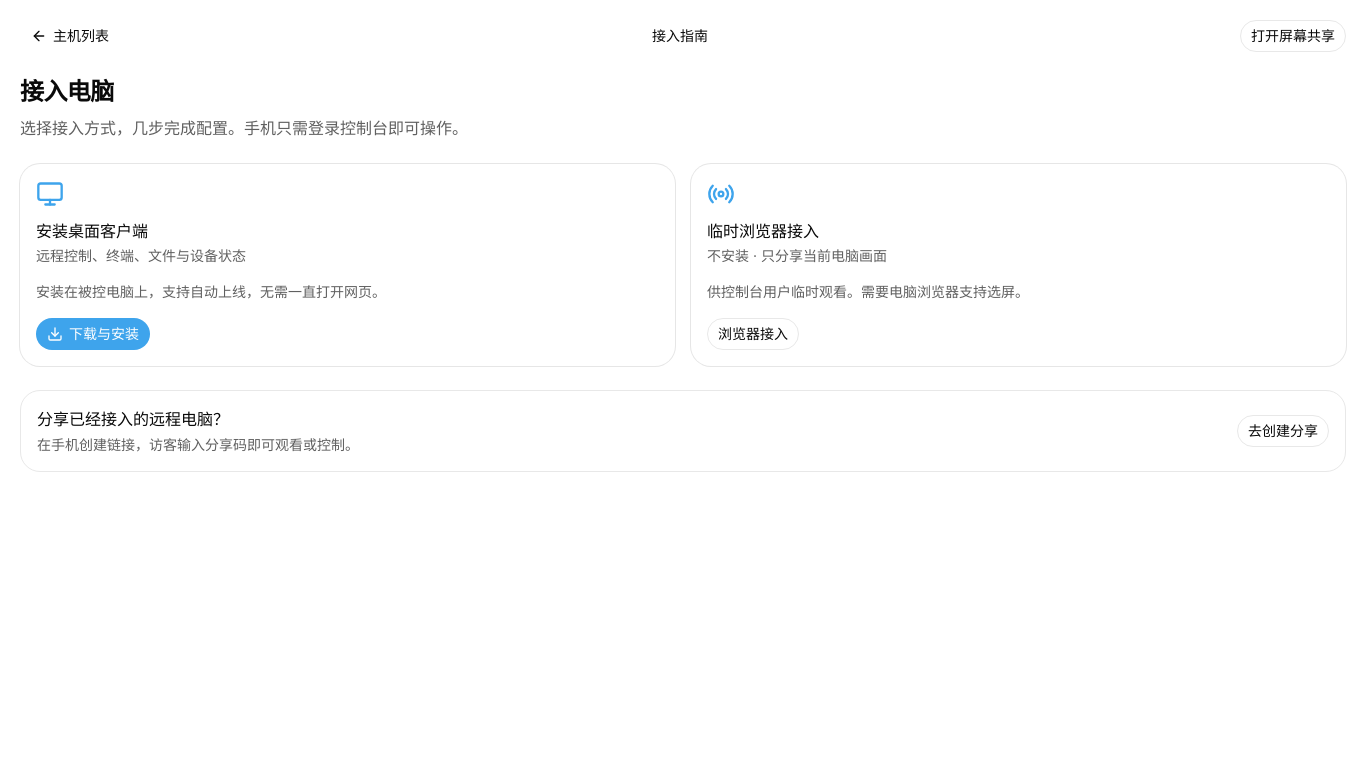
stopping while the browser picker is pending releases the subsequently selected screen
The image size is (1366, 768).
Click the button "浏览器接入" at (753, 334), box [707,318,799,350]
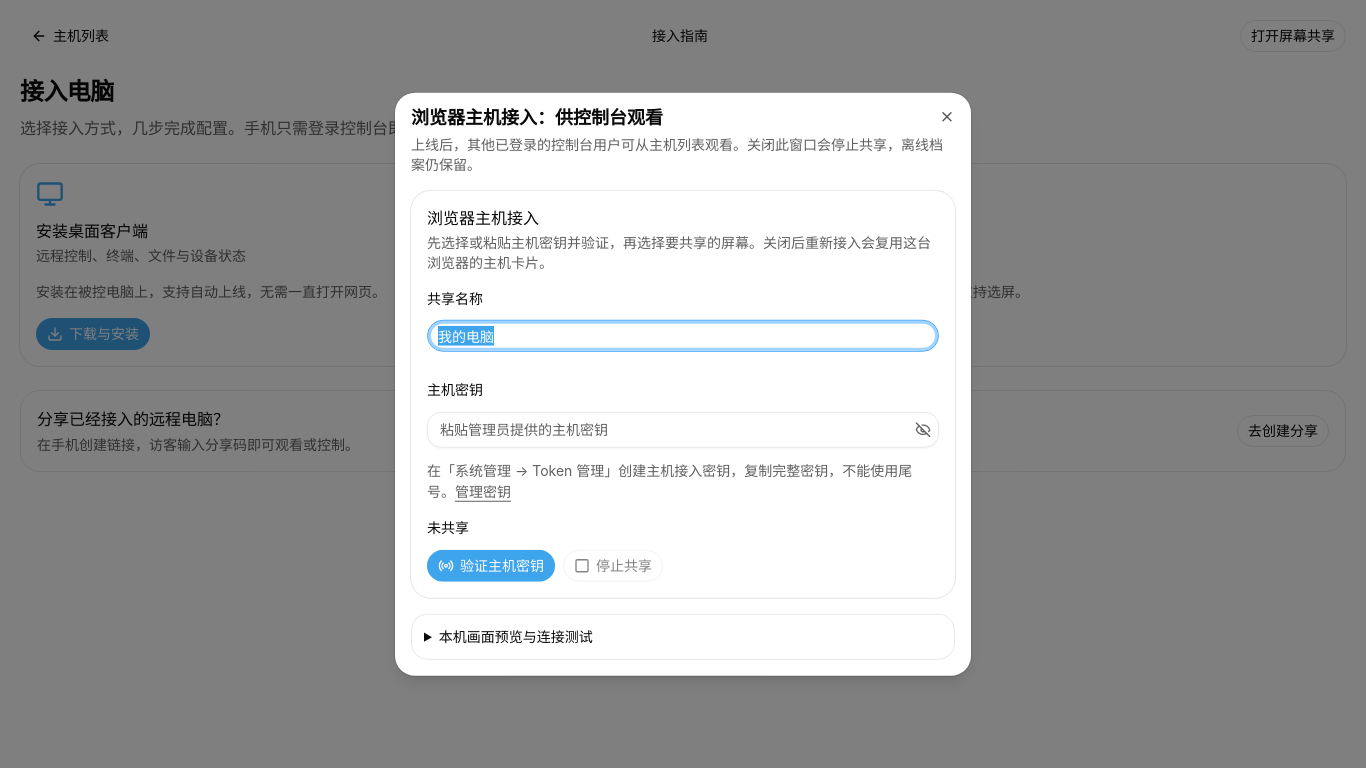
Type "test-host-token" into the password field labelled "主机密钥" at (683, 429), box [427,411,939,447]
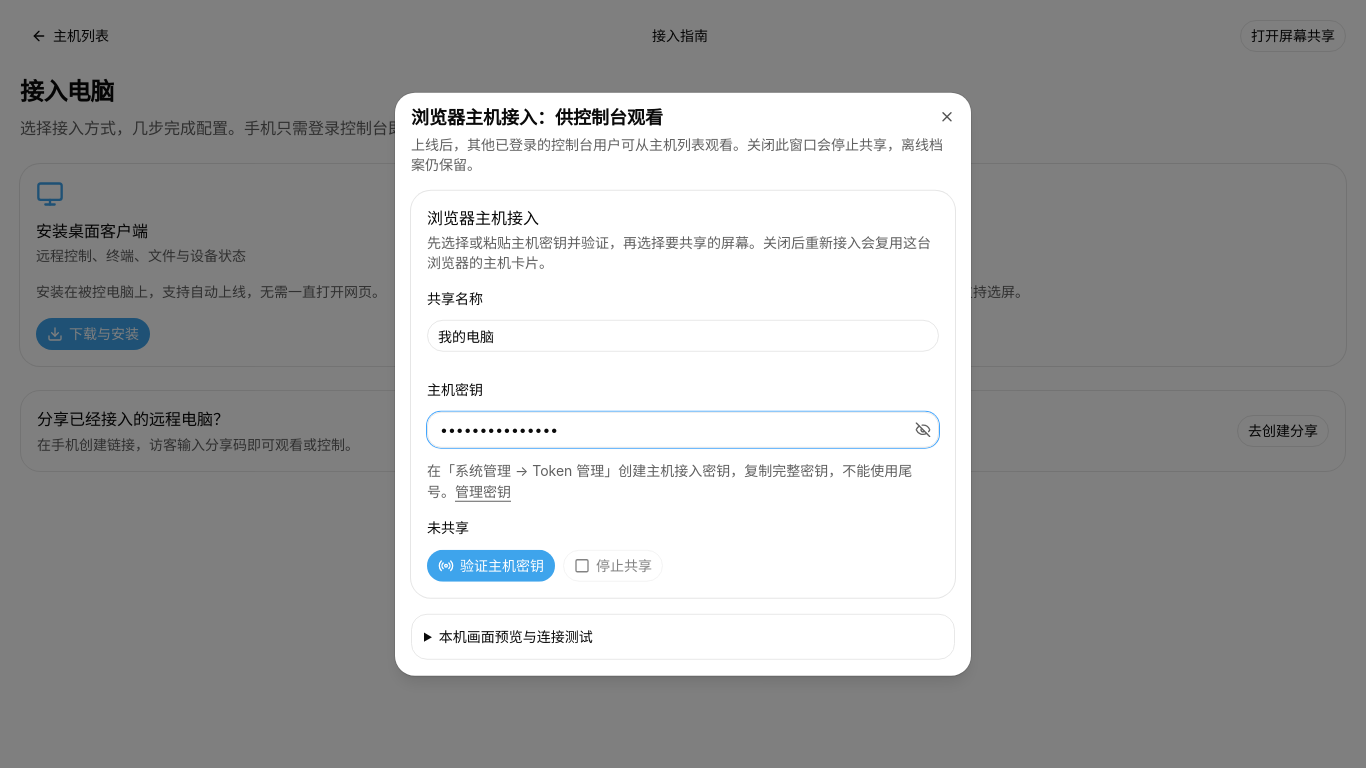
Click the button "验证主机密钥" at (491, 565), box [427,549,555,581]
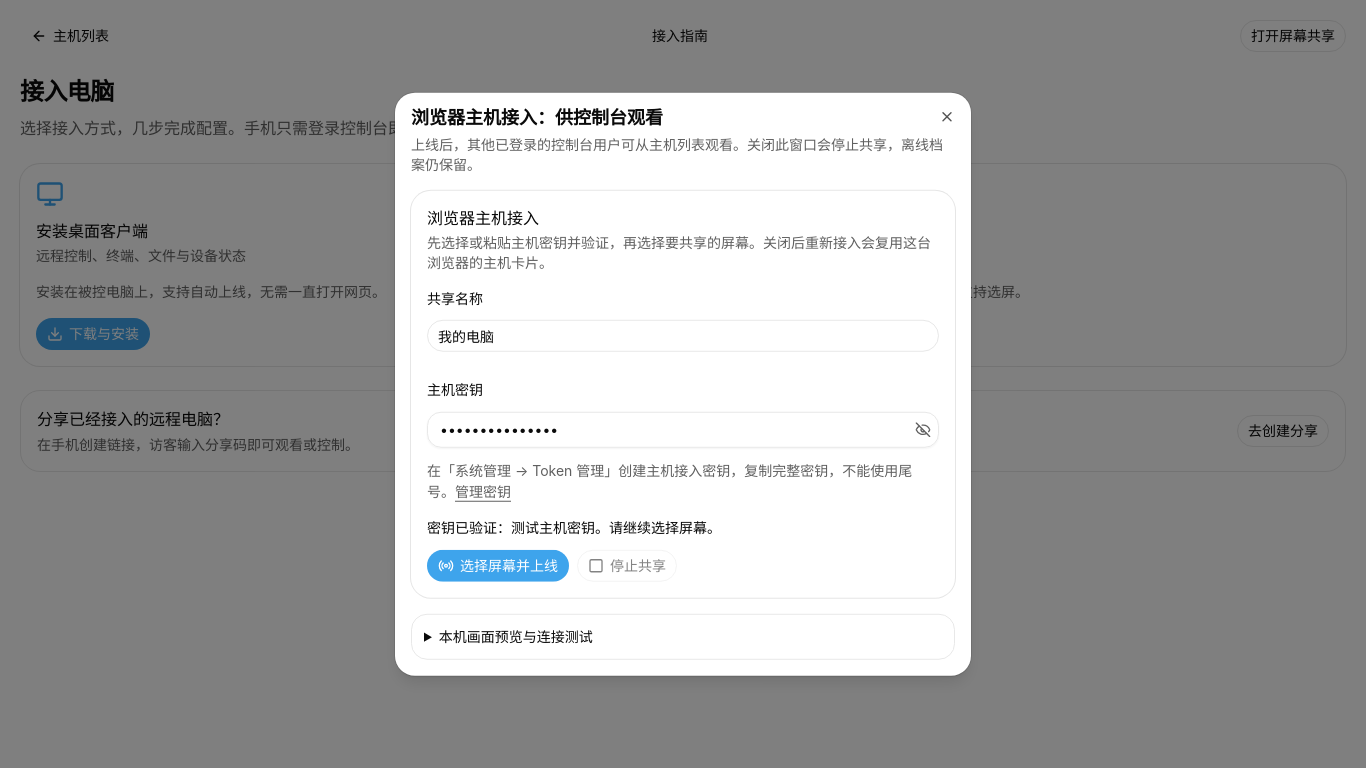
Click the button "选择屏幕并上线" at (498, 565), box [427,549,569,581]
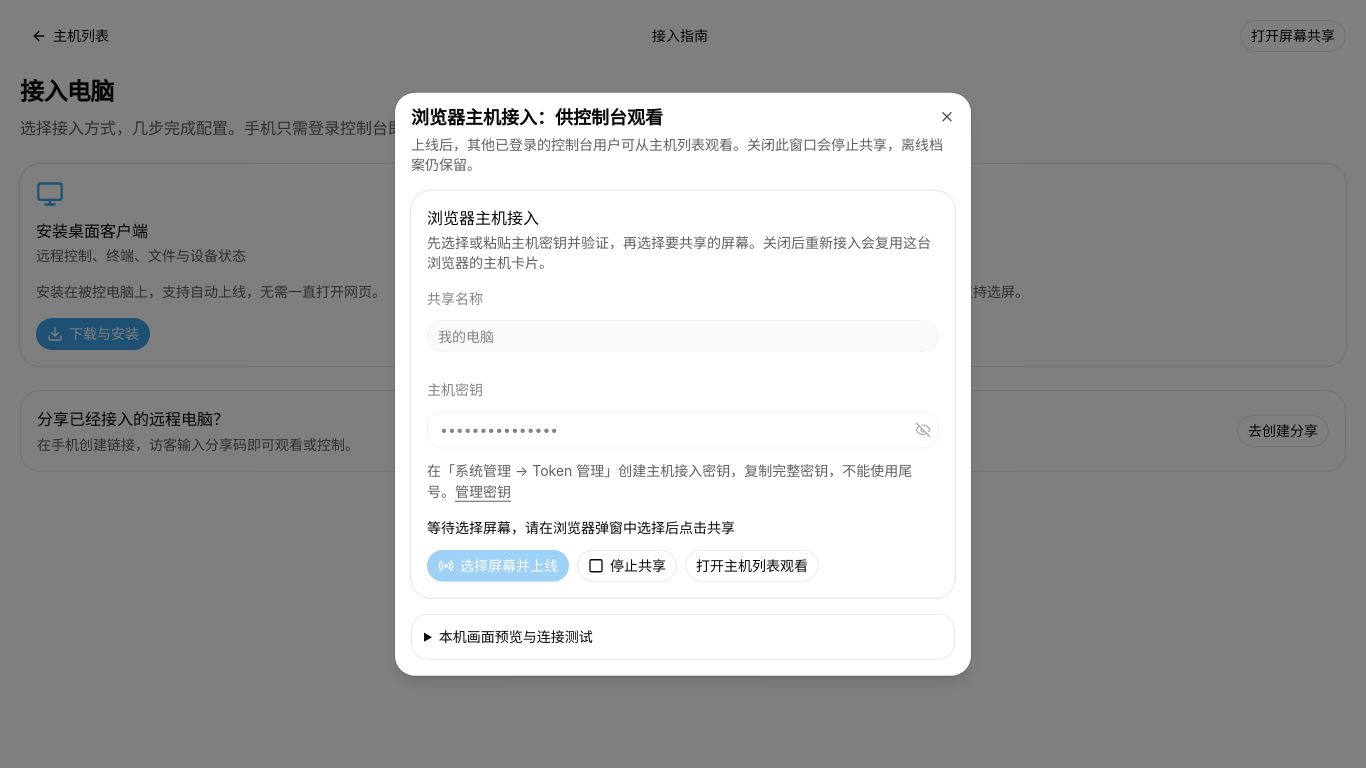
Click the button "停止共享" at (627, 565), box [577,549,677,581]
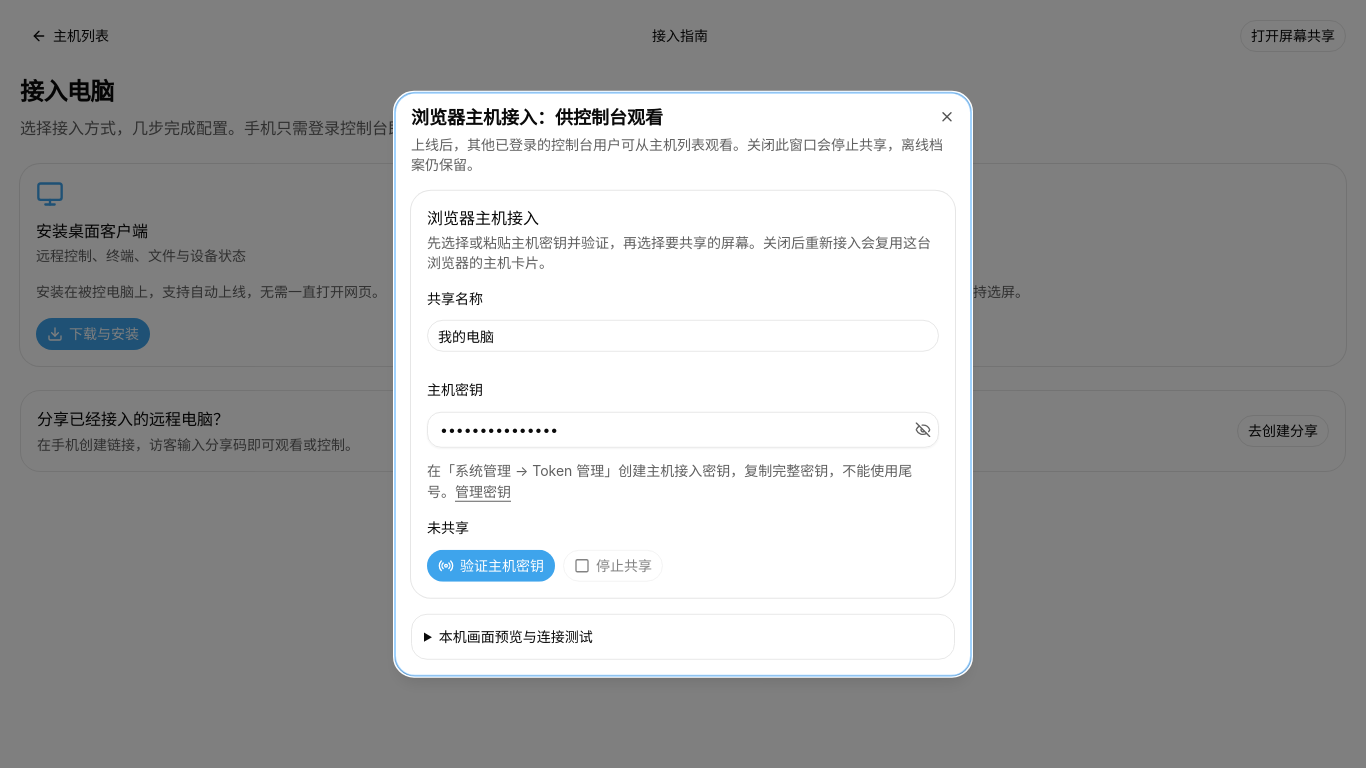
expect the button "验证主机密钥" is enabled: met, box [427,549,555,581]
